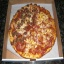pizza: (9, 3, 54, 60)
